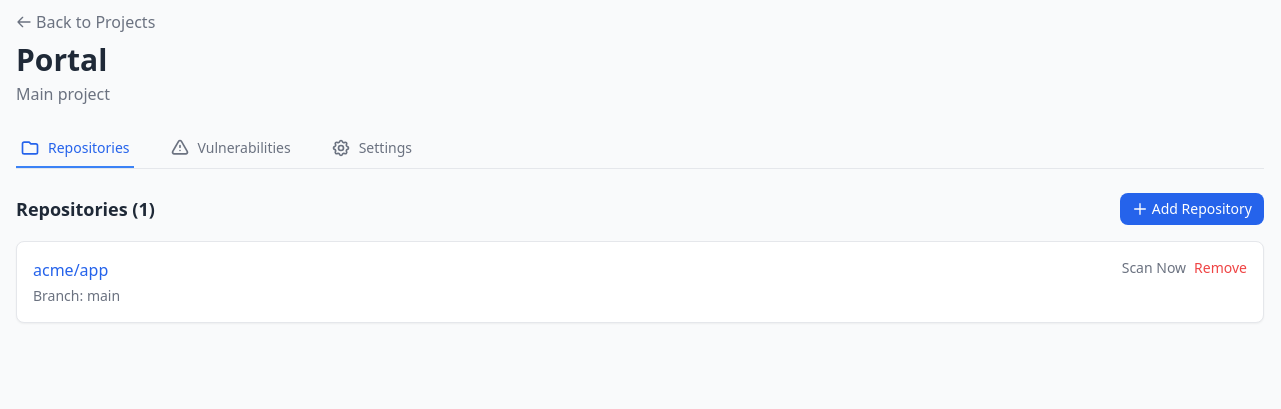
Scenario: ProjectDetailPage › the Vulnerabilities tab shows the findings
Click the button "Vulnerabilities".
click(230, 149)  # box [166,130,295,168]
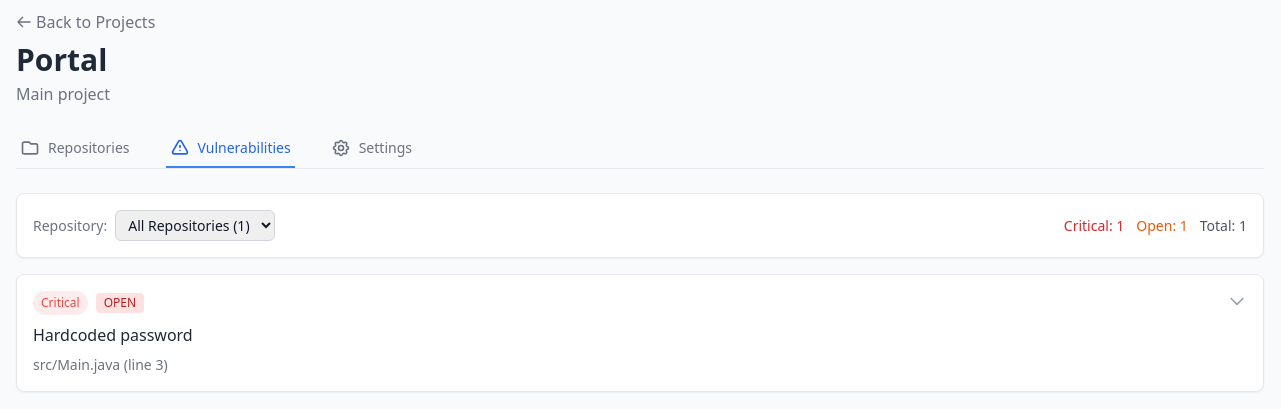
Expected: the text "Hardcoded password" is shown, [33,324,193,346]
